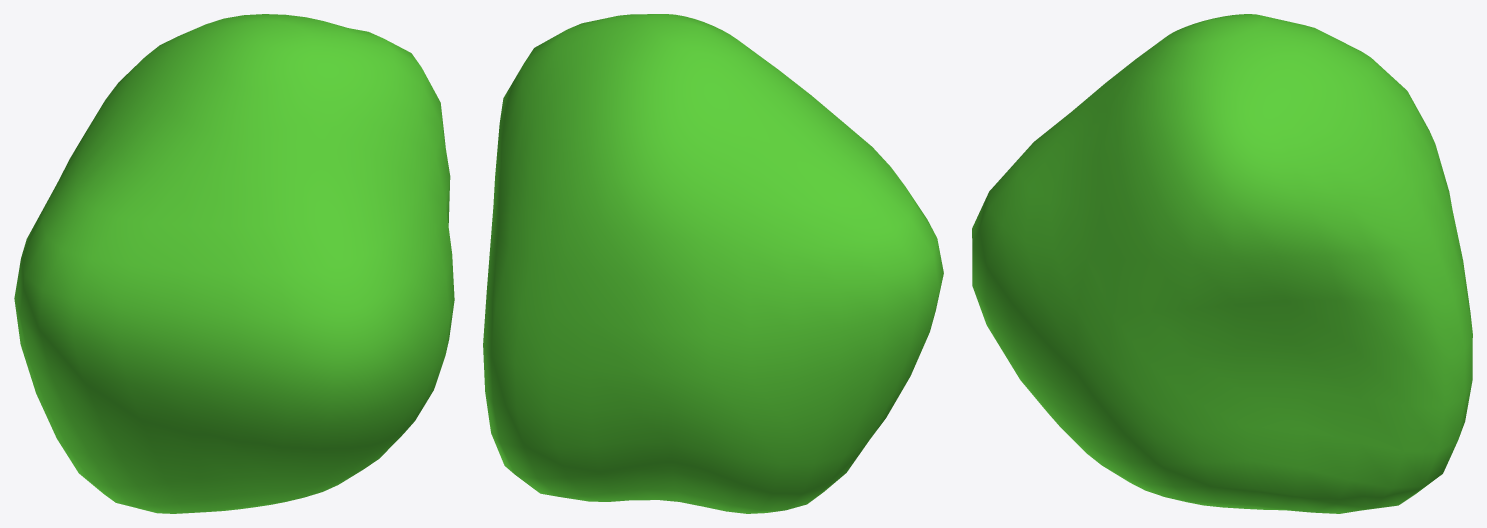
File: test3Dfile v2.0.glb
3 views of the same model, side by side, from view 1: azimuth 30°, elevation 25°; view 2: azimuth 150°, elevation 25°; view 3: azimuth 270°, elevation 25° (orthographic). The views are drawn at different scales.
Visible parts, largest first — view 1: Sphere; view 2: Sphere; view 3: Sphere.
Part boxes in pixels (x1,y1,x2,y2): Sphere: [14, 14, 454, 513]; Sphere: [483, 14, 943, 513]; Sphere: [972, 14, 1472, 513].
Bounding box in the file's own units: 2.25 × 2.37 × 2.25.
